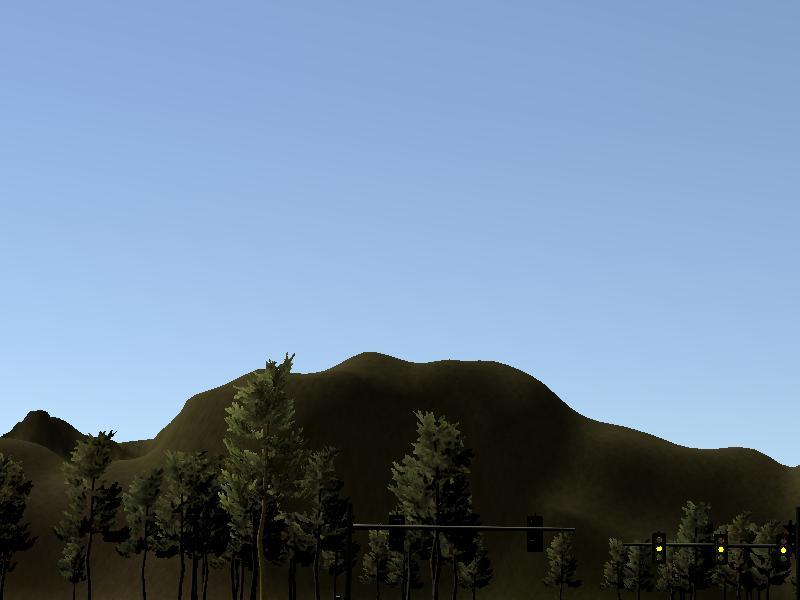Yellow: (652, 533, 666, 564), (777, 535, 790, 566), (715, 534, 728, 564)
